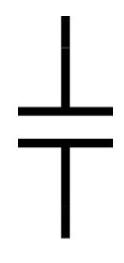Capacitor: (10, 70, 115, 186)
